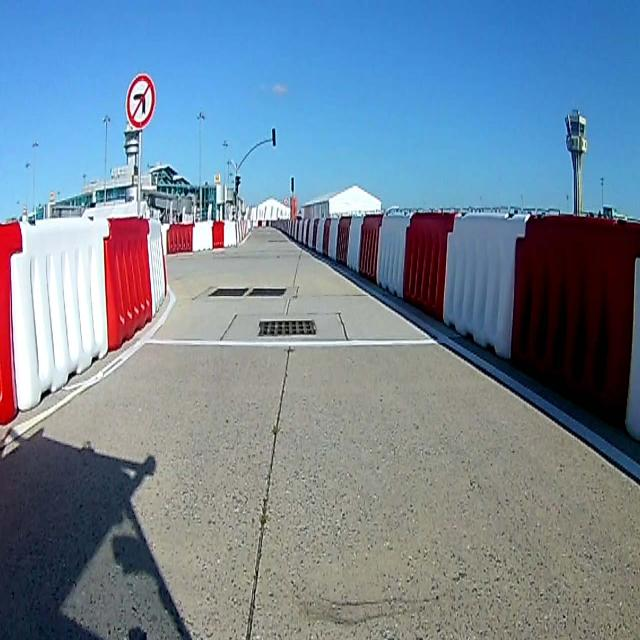soladonulmez: (125, 72, 157, 132)
